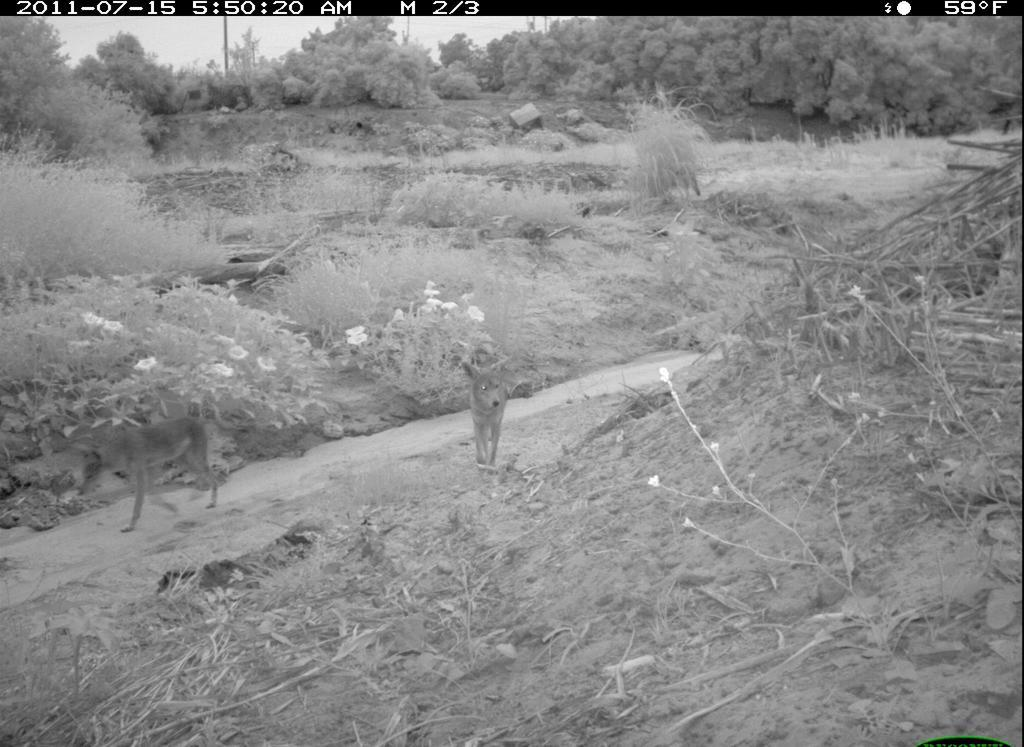coyote: (71, 418, 232, 534), (457, 350, 513, 473)
